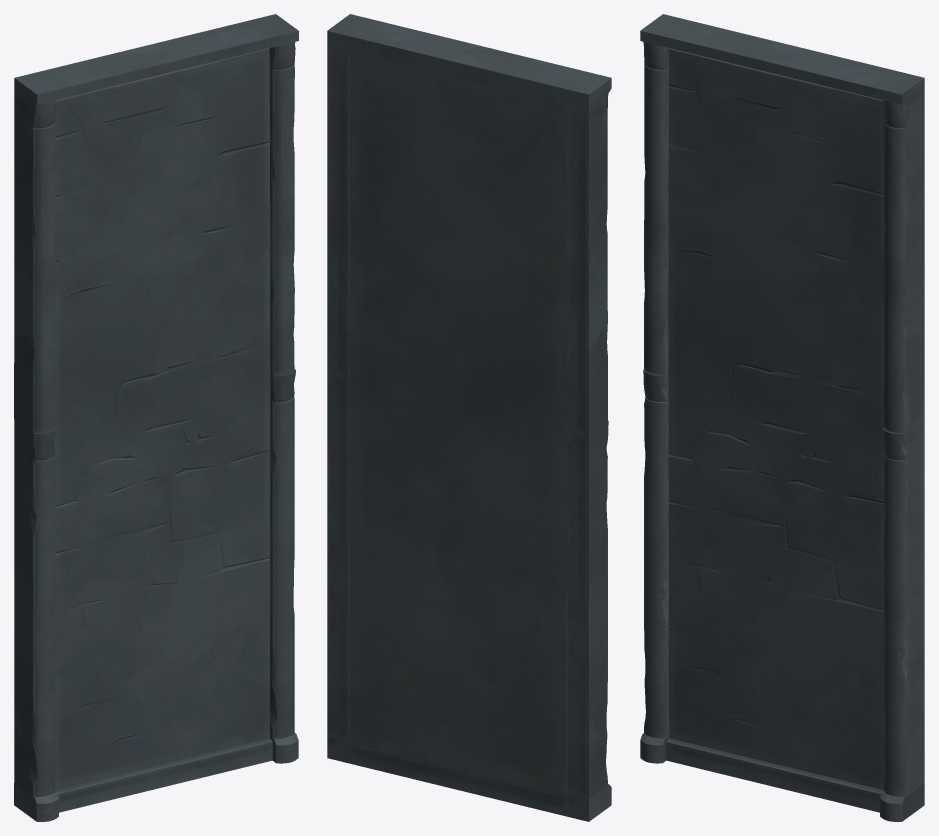
Rendered from VerticalWall.fbx.
3 views of the same model, side by side, from view 1: azimuth 30°, elevation 25°; view 2: azimuth 150°, elevation 25°; view 3: azimuth 330°, elevation 25° (orthographic).
Visible parts, largest first — view 1: VerticalWall; view 2: VerticalWall; view 3: VerticalWall.
Part boxes in pixels (bbox=[...]): VerticalWall: bbox=[14, 14, 298, 821]; VerticalWall: bbox=[327, 14, 611, 821]; VerticalWall: bbox=[640, 14, 924, 821].
Size of the model in its own units: 602 by 1598 by 101.
